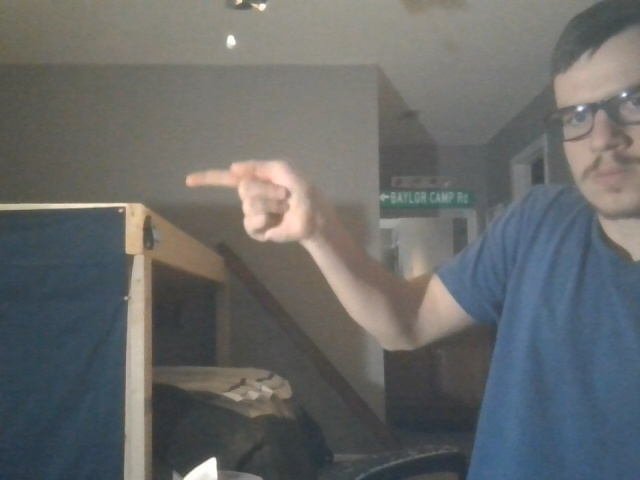G: (178, 151, 326, 257)
